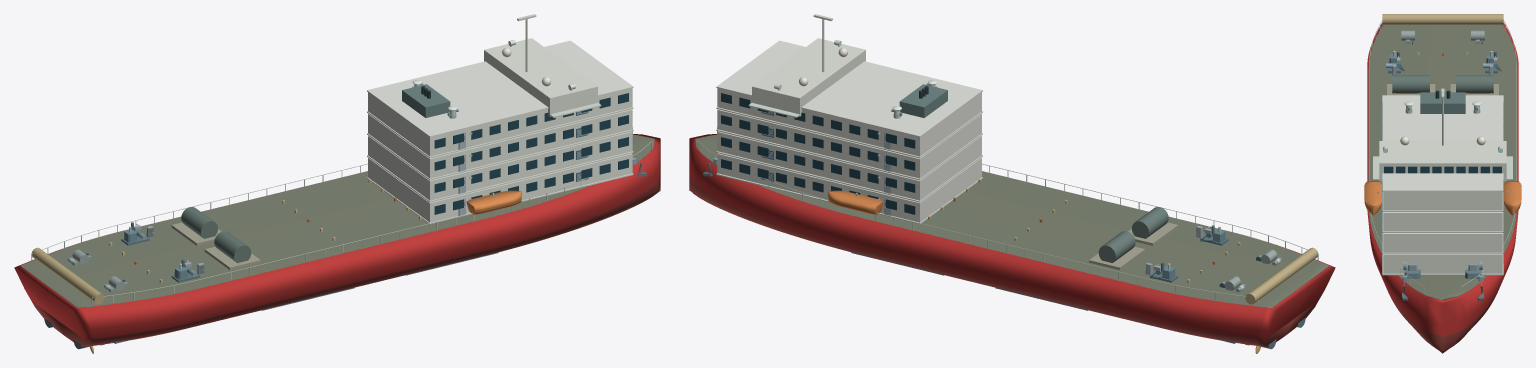
Rendered from bourbon-orca.lod1.glb.
3 renders of one model, left to right at view 1: azimuth 30°, elevation 25°; view 2: azimuth 150°, elevation 25°; view 3: azimuth 270°, elevation 25°, orthographic. The views are drawn at different scales.
Parts seen in each view (by area): view 1: bourbon-orca.structure.decks.main-strength-deck.1, bourbon-orca.structure.hull.outer-hull-shell.1, bourbon-orca.accommodation.superstructure.superstructure-wea, bourbon-orca.accommodation.superstructure.deck-2-enclosure.1, bourbon-orca.accommodation.superstructure.deck-3-enclosure.1, bourbon-orca.navigation.bridge.wheelhouse.1, bourbon-orca.structure.hull.antifouling-underwater-shell.1, bourbon-orca.accommodation.superstructure.deck-1-enclosure.1, bourbon-orca.accommodation.superstructure.deck-4-enclosure.1, bourbon-orca.propulsion.exhaust.exhaust-casing.1, bourbon-orca.cargo.working-deck.stern-roller.1, bourbon-orca.safety.survival-craft.lifeboat-starboard-1.1 (+6 smaller); view 2: bourbon-orca.structure.decks.main-strength-deck.1, bourbon-orca.structure.hull.outer-hull-shell.1, bourbon-orca.accommodation.superstructure.superstructure-wea, bourbon-orca.accommodation.superstructure.deck-3-enclosure.1, bourbon-orca.accommodation.superstructure.deck-2-enclosure.1, bourbon-orca.navigation.bridge.wheelhouse.1, bourbon-orca.structure.hull.antifouling-underwater-shell.1, bourbon-orca.accommodation.superstructure.deck-1-enclosure.1, bourbon-orca.accommodation.superstructure.deck-4-enclosure.1, bourbon-orca.propulsion.exhaust.exhaust-casing.1, bourbon-orca.cargo.working-deck.stern-roller.1, bourbon-orca.safety.survival-craft.lifeboat-port-1.1 (+6 smaller); view 3: bourbon-orca.structure.decks.main-strength-deck.1, bourbon-orca.accommodation.superstructure.superstructure-wea, bourbon-orca.structure.hull.outer-hull-shell.1, bourbon-orca.navigation.bridge.wheelhouse.1, bourbon-orca.accommodation.superstructure.deck-2-enclosure.1, bourbon-orca.accommodation.superstructure.deck-3-enclosure.1, bourbon-orca.accommodation.superstructure.deck-4-enclosure.1, bourbon-orca.accommodation.superstructure.deck-1-enclosure.1, bourbon-orca.cargo.working-deck.stern-roller.1, bourbon-orca.propulsion.exhaust.exhaust-casing.1, bourbon-orca.structure.hull.antifouling-underwater-shell.1, bourbon-orca.cargo.working-deck.port-mission-winch-drum.1 (+13 smaller).
Boxes of the visible parts, <box> form: bourbon-orca.structure.decks.main-strength-deck.1: <box>21,134,654,308</box>; bourbon-orca.structure.hull.outer-hull-shell.1: <box>14,134,660,339</box>; bourbon-orca.accommodation.superstructure.superstructure-wea: <box>367,40,633,137</box>; bourbon-orca.accommodation.superstructure.deck-2-enclosure.1: <box>368,131,632,200</box>; bourbon-orca.accommodation.superstructure.deck-3-enclosure.1: <box>368,109,632,178</box>; bourbon-orca.navigation.bridge.wheelhouse.1: <box>484,38,597,116</box>; bourbon-orca.structure.hull.antifouling-underwater-shell.1: <box>32,174,660,347</box>; bourbon-orca.accommodation.superstructure.deck-1-enclosure.1: <box>368,153,632,222</box>; bourbon-orca.accommodation.superstructure.deck-4-enclosure.1: <box>368,88,632,156</box>; bourbon-orca.propulsion.exhaust.exhaust-casing.1: <box>402,84,450,117</box>; bourbon-orca.cargo.working-deck.stern-roller.1: <box>31,247,104,304</box>; bourbon-orca.safety.survival-craft.lifeboat-starboard-1.1: <box>466,190,521,214</box>; bourbon-orca.structure.decks.main-strength-deck.1: <box>695,134,1328,308</box>; bourbon-orca.structure.hull.outer-hull-shell.1: <box>689,134,1335,339</box>; bourbon-orca.accommodation.superstructure.superstructure-wea: <box>716,40,982,137</box>; bourbon-orca.accommodation.superstructure.deck-3-enclosure.1: <box>717,109,981,178</box>; bourbon-orca.accommodation.superstructure.deck-2-enclosure.1: <box>717,131,981,200</box>; bourbon-orca.navigation.bridge.wheelhouse.1: <box>752,38,865,116</box>; bourbon-orca.structure.hull.antifouling-underwater-shell.1: <box>689,174,1317,346</box>; bourbon-orca.accommodation.superstructure.deck-1-enclosure.1: <box>717,153,981,222</box>; bourbon-orca.accommodation.superstructure.deck-4-enclosure.1: <box>717,88,981,156</box>; bourbon-orca.propulsion.exhaust.exhaust-casing.1: <box>899,84,947,117</box>; bourbon-orca.cargo.working-deck.stern-roller.1: <box>1245,247,1318,304</box>; bourbon-orca.safety.survival-craft.lifeboat-port-1.1: <box>828,190,883,214</box>; bourbon-orca.structure.decks.main-strength-deck.1: <box>1368,25,1517,300</box>; bourbon-orca.accommodation.superstructure.superstructure-wea: <box>1382,95,1503,191</box>; bourbon-orca.structure.hull.outer-hull-shell.1: <box>1367,23,1518,336</box>; bourbon-orca.navigation.bridge.wheelhouse.1: <box>1379,141,1506,181</box>; bourbon-orca.accommodation.superstructure.deck-2-enclosure.1: <box>1383,233,1502,252</box>; bourbon-orca.accommodation.superstructure.deck-3-enclosure.1: <box>1383,212,1502,231</box>; bourbon-orca.accommodation.superstructure.deck-4-enclosure.1: <box>1383,191,1502,210</box>; bourbon-orca.accommodation.superstructure.deck-1-enclosure.1: <box>1383,254,1502,273</box>; bourbon-orca.cargo.working-deck.stern-roller.1: <box>1382,14,1503,24</box>; bourbon-orca.propulsion.exhaust.exhaust-casing.1: <box>1420,92,1465,113</box>; bourbon-orca.structure.hull.antifouling-underwater-shell.1: <box>1386,288,1499,353</box>; bourbon-orca.cargo.working-deck.port-mission-winch-drum.1: <box>1456,75,1493,93</box>.
Size of the model in its own units: 83.6 by 27.55 by 19.22.
